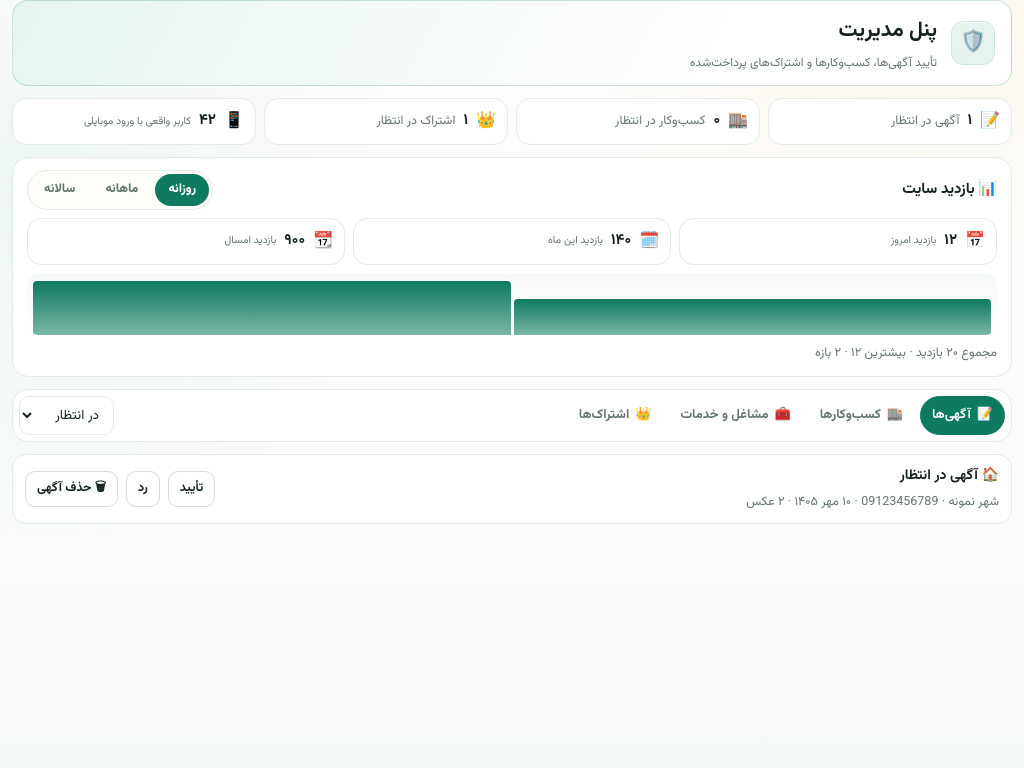
Test case: AdminPanel › does not show the service-delete action to non-manager moderators
Click the tab with test id "tab-services". click: point(736, 415)
box: [668, 396, 803, 434]
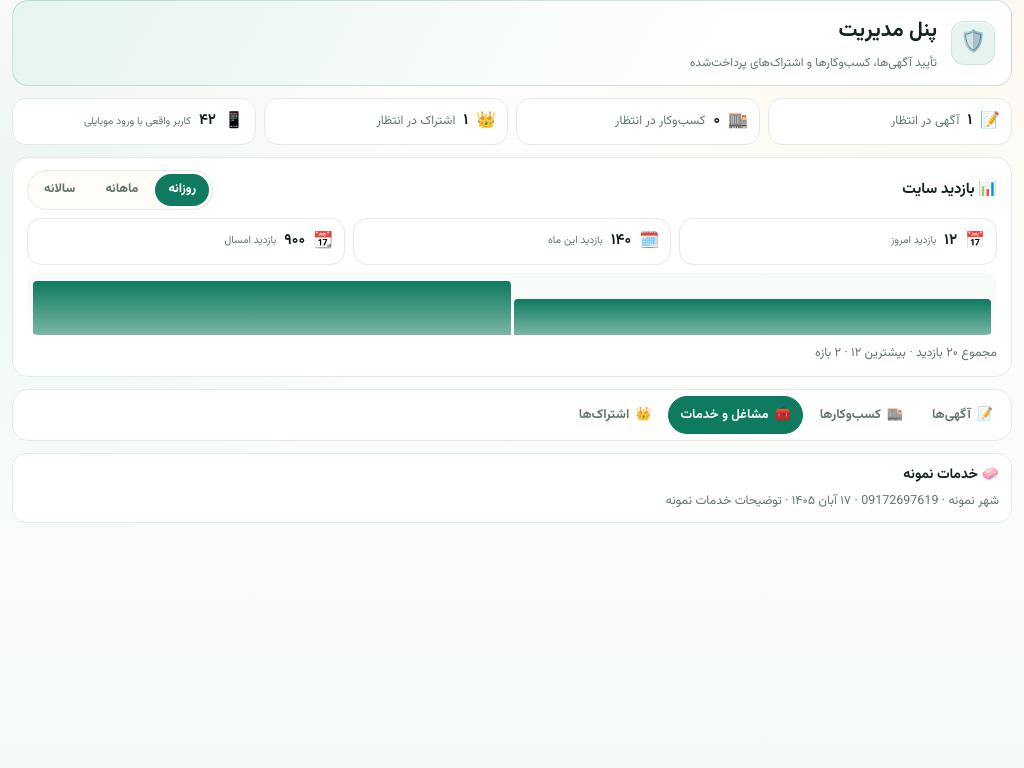
Check: the list item with test id "row-68" is shown, box [12, 453, 1012, 523]
